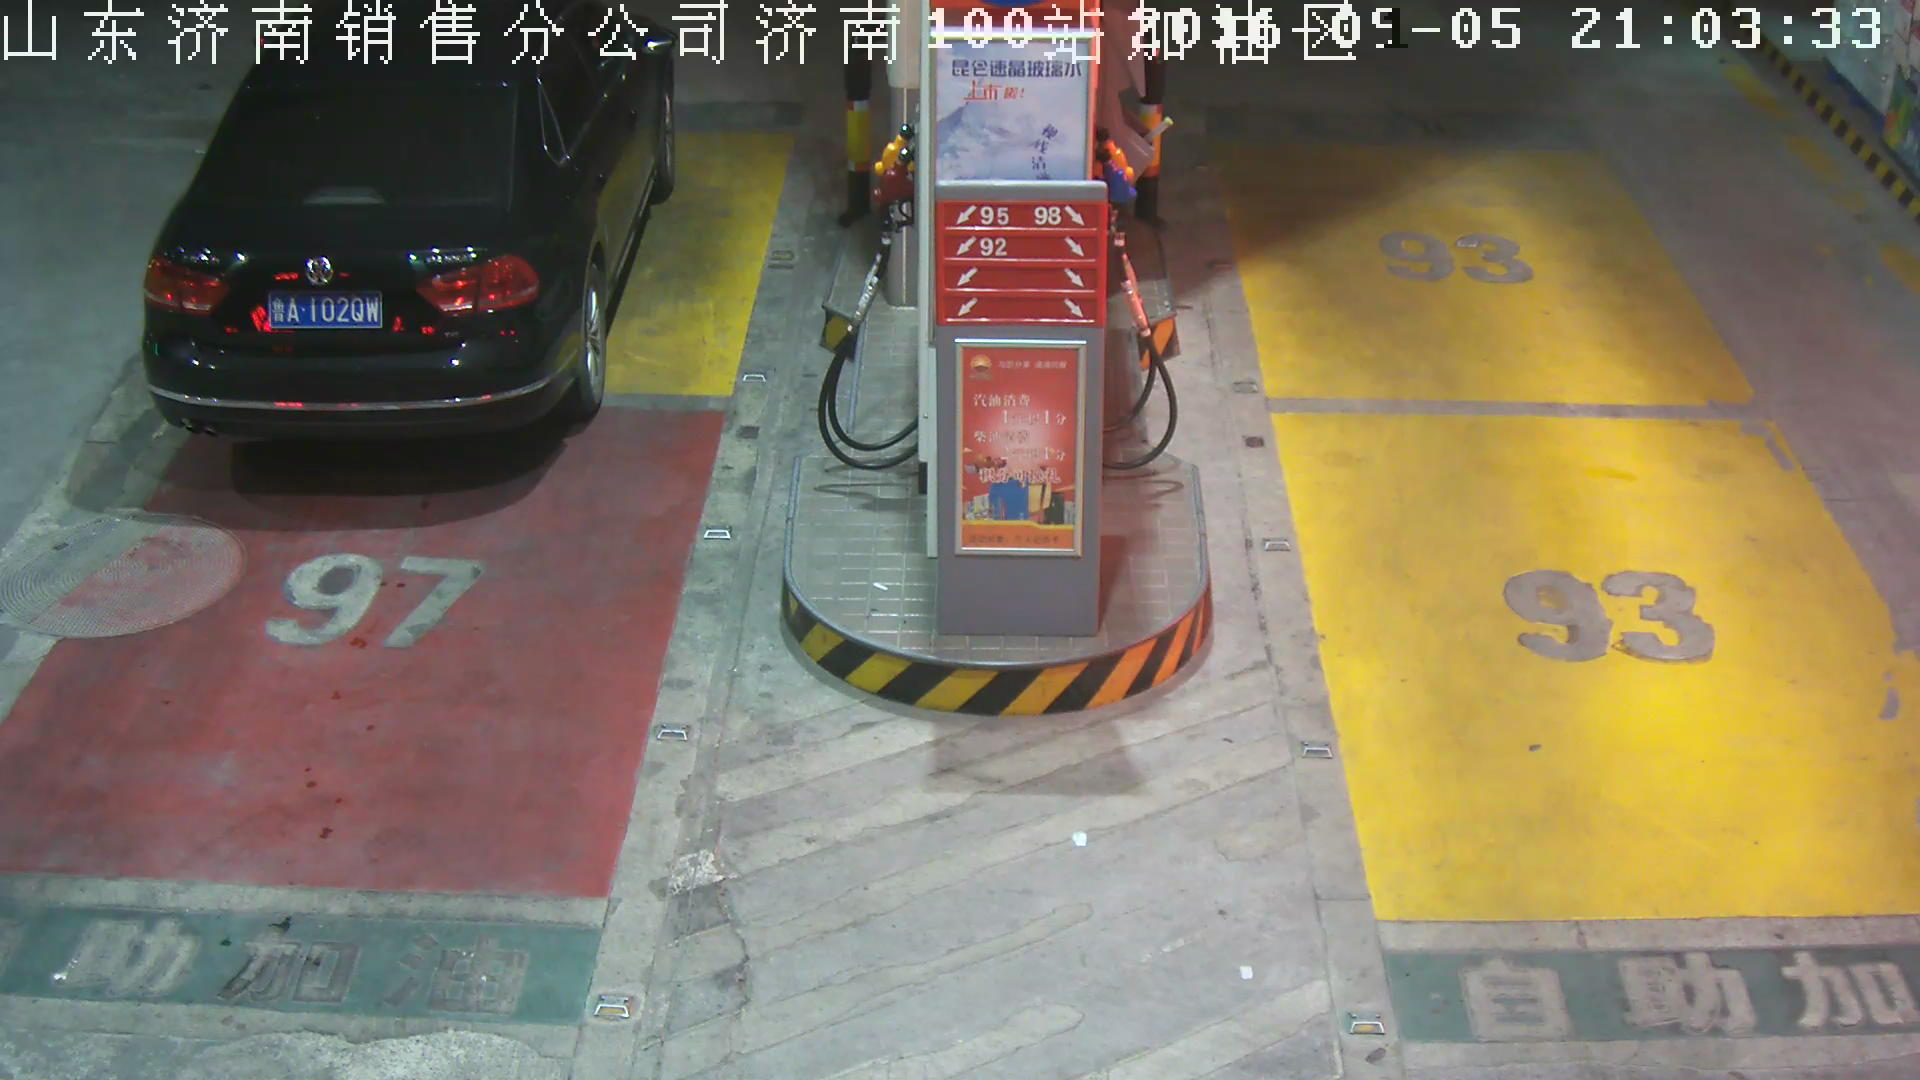blue: (266, 289, 386, 331)
